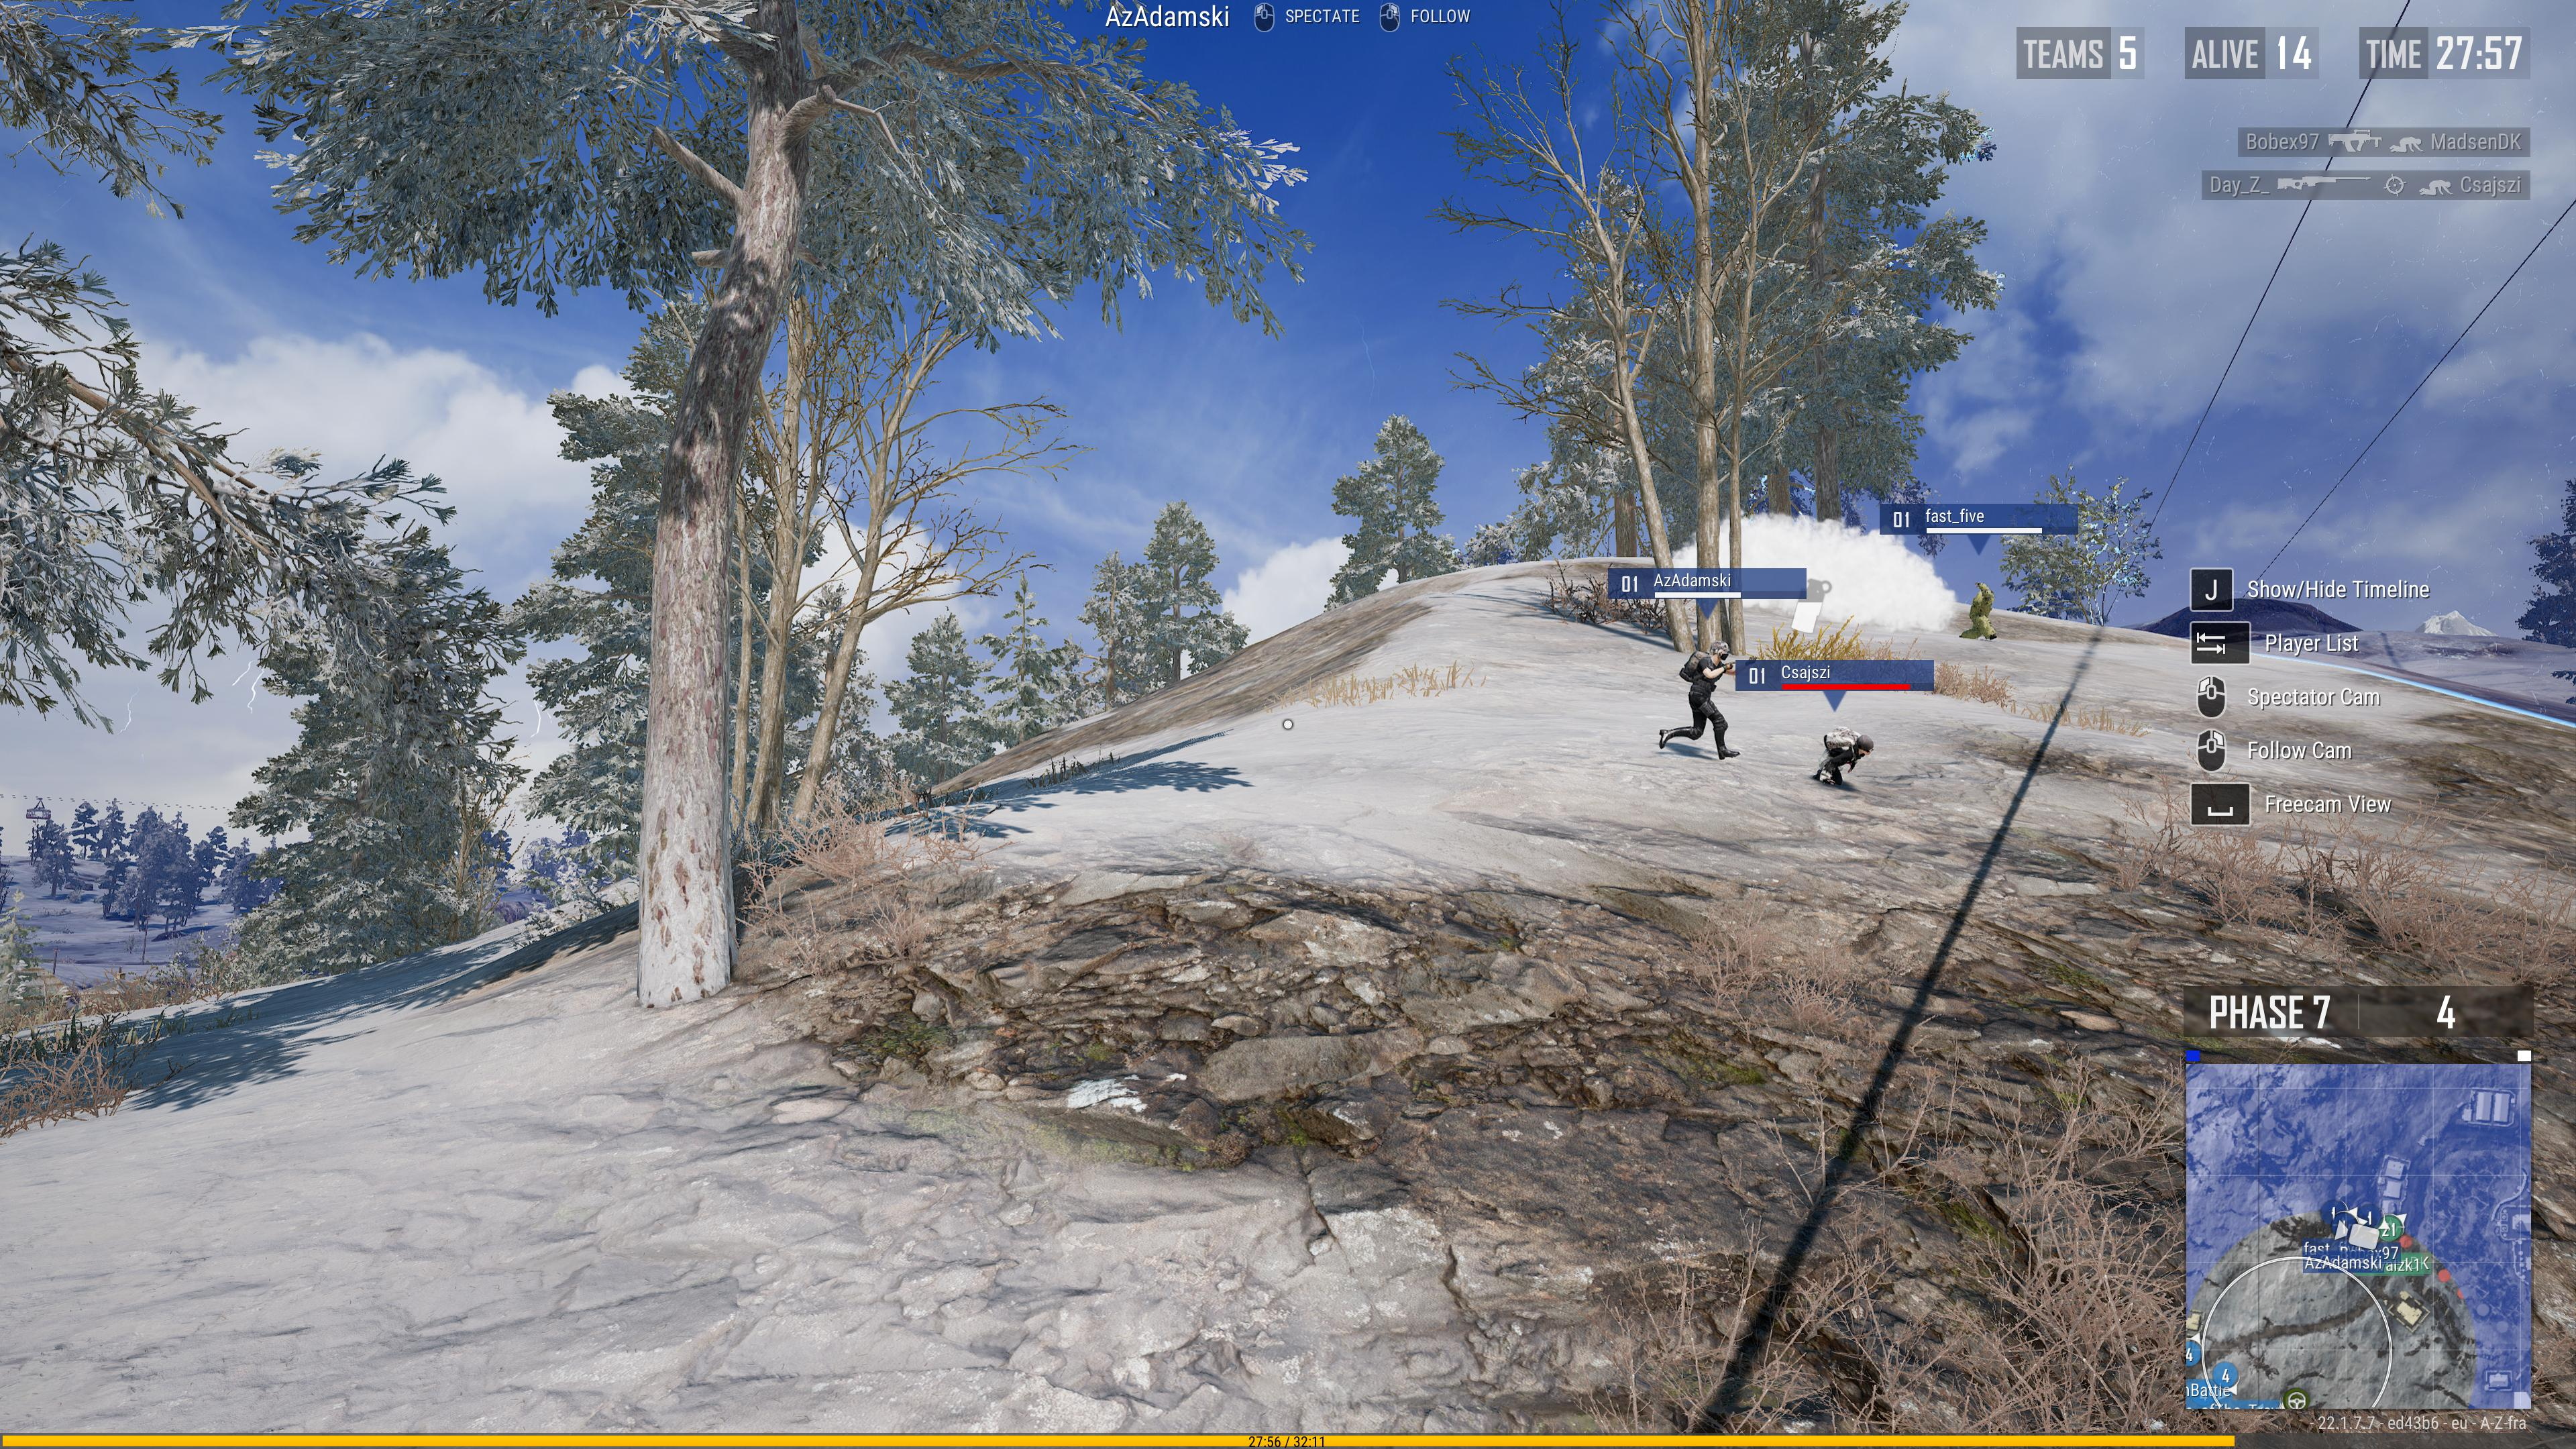enemy: (1658, 640, 1739, 759), (1812, 727, 1874, 786), (1959, 580, 1997, 639)
enemy_head: (1854, 734, 1874, 755), (1709, 640, 1729, 660)
